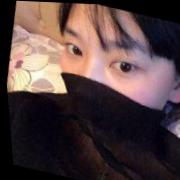WRONG: (43, 17, 173, 152)
